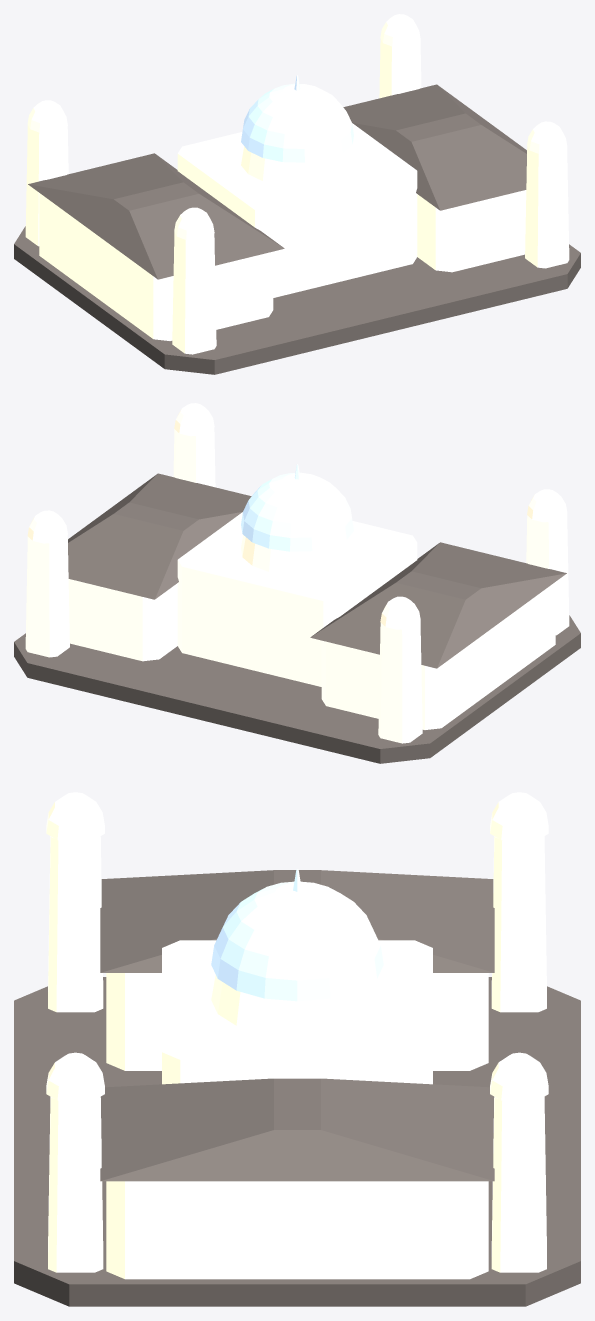
File: kota-iskandar.glb
The picture shows the model from 3 angles, top to bottom: view 1: azimuth 30°, elevation 25°; view 2: azimuth 150°, elevation 25°; view 3: azimuth 270°, elevation 25°; orthographic projection. The views are drawn at different scales.
Visible parts, largest first — view 1: plinth, centre, corner-towers, wing-roof--1, wing-roof-1, wing--1, wing-1, dome, drum; view 2: plinth, centre, corner-towers, wing-roof--1, wing-roof-1, wing--1, wing-1, dome, drum; view 3: corner-towers, plinth, wing-roof-1, wing-1, wing-roof--1, centre, dome, wing--1, drum.
Boxes of the visible parts, x1=… form: plinth: x1=14, y1=226, x2=580, y2=374; centre: x1=177, y1=123, x2=417, y2=297; corner-towers: x1=25, y1=14, x2=569, y2=354; wing-roof--1: x1=28, y1=153, x2=284, y2=279; wing-roof-1: x1=343, y1=84, x2=526, y2=210; wing--1: x1=39, y1=193, x2=273, y2=340; wing-1: x1=417, y1=190, x2=526, y2=272; dome: x1=241, y1=83, x2=353, y2=162; drum: x1=241, y1=146, x2=353, y2=185; plinth: x1=14, y1=615, x2=580, y2=763; centre: x1=177, y1=512, x2=417, y2=686; corner-towers: x1=25, y1=403, x2=569, y2=743; wing-roof--1: x1=310, y1=542, x2=566, y2=668; wing-roof-1: x1=68, y1=473, x2=251, y2=599; wing--1: x1=321, y1=582, x2=555, y2=729; wing-1: x1=68, y1=579, x2=177, y2=661; dome: x1=241, y1=472, x2=353, y2=551; drum: x1=241, y1=535, x2=353, y2=574; corner-towers: x1=46, y1=792, x2=548, y2=1272; plinth: x1=14, y1=977, x2=580, y2=1306; wing-roof-1: x1=100, y1=1078, x2=494, y2=1181; wing-1: x1=106, y1=1181, x2=488, y2=1279; wing-roof--1: x1=100, y1=870, x2=494, y2=972; centre: x1=162, y1=940, x2=432, y2=1084; dome: x1=211, y1=881, x2=383, y2=1001; wing--1: x1=106, y1=973, x2=488, y2=1070; drum: x1=211, y1=975, x2=383, y2=1036.
Size of the model in its own units: 118 by 50.8 by 92.
